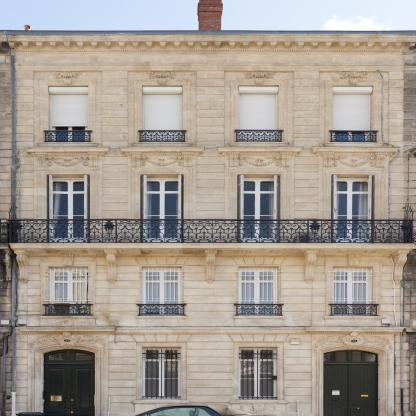Balcony: (9, 219, 415, 243)
Building Outline: (0, 0, 416, 416)
Cornice: (310, 146, 401, 168), (216, 146, 304, 167), (23, 146, 111, 167), (119, 146, 205, 167), (335, 71, 371, 85), (51, 71, 85, 85), (243, 71, 276, 85), (146, 71, 179, 85), (228, 335, 289, 342), (131, 335, 192, 342), (232, 258, 286, 265), (135, 258, 189, 265), (61, 253, 74, 266), (347, 254, 361, 266)
Deco: (312, 331, 394, 354), (28, 331, 107, 353), (392, 250, 408, 284), (304, 250, 318, 284), (15, 250, 28, 284), (104, 250, 117, 284), (205, 250, 217, 284)
Door: (323, 349, 379, 416), (43, 349, 95, 416)
Facade: (0, 31, 416, 328)
Floor: (1, 153, 416, 243), (1, 249, 416, 327)
Floor Slab: (1, 147, 416, 153), (1, 243, 416, 249), (1, 327, 416, 333)
Ground Floor: (1, 333, 416, 416)
Molding: (8, 243, 416, 257), (8, 41, 416, 52), (15, 326, 406, 335), (15, 63, 416, 71)
Pillar: (0, 71, 33, 243), (196, 71, 225, 243), (388, 71, 416, 243), (293, 71, 320, 243), (102, 71, 127, 243)
Sill: (323, 316, 384, 320), (38, 316, 99, 320), (323, 143, 384, 147), (38, 143, 99, 147), (132, 143, 193, 147), (229, 143, 290, 147), (230, 400, 287, 404), (133, 400, 189, 404), (233, 316, 285, 320), (136, 316, 186, 320)
Top Floor: (1, 63, 416, 147)
Window: (48, 178, 88, 243), (333, 178, 372, 243), (143, 178, 182, 243), (239, 178, 278, 243), (142, 87, 182, 142), (48, 87, 88, 142), (334, 87, 373, 142), (239, 87, 278, 142), (142, 347, 181, 400), (239, 347, 277, 400), (332, 268, 372, 316), (48, 268, 88, 316), (238, 268, 278, 316), (142, 268, 181, 316)
